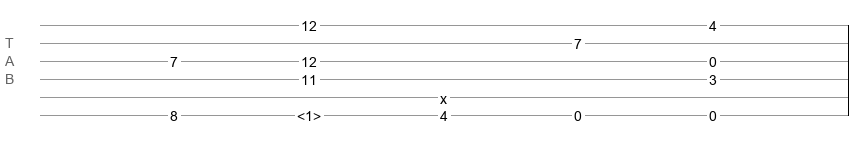0: (574, 108, 582, 118), (709, 54, 717, 64), (709, 108, 717, 118)
11: (301, 72, 317, 82)
12: (301, 18, 317, 28), (301, 54, 317, 64)
3: (709, 72, 717, 82)
4: (440, 108, 448, 118), (709, 18, 717, 28)
7: (170, 54, 178, 64), (574, 36, 582, 46)
8: (170, 108, 178, 118)
harmonic: (297, 108, 321, 118)
x: (440, 91, 447, 99)
